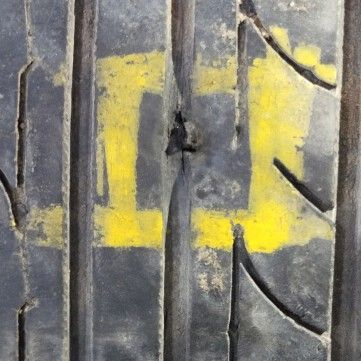tr: (164, 108, 200, 159)
